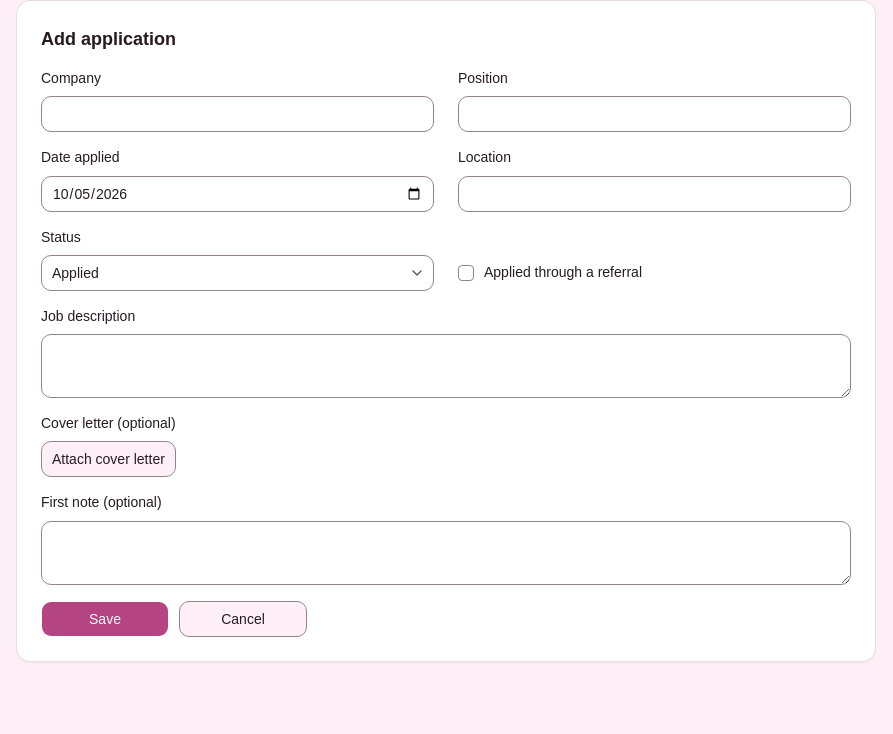
AddApplicationScreen › keeps every value when the save fails, and says so with a reference
This screenshot has width=893, height=734.
In the field labelled "Company": (238, 114) [41,96,434,132], type "Northwind Traders"
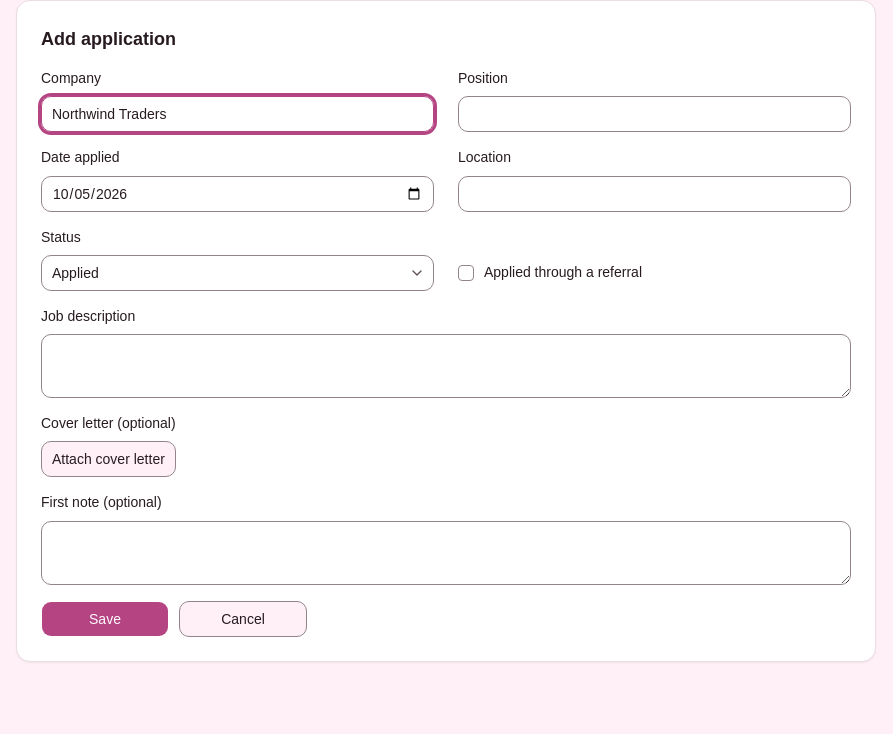
In the field labelled "Position": (654, 114) [458,96,851,132], type "Senior Frontend Engineer"
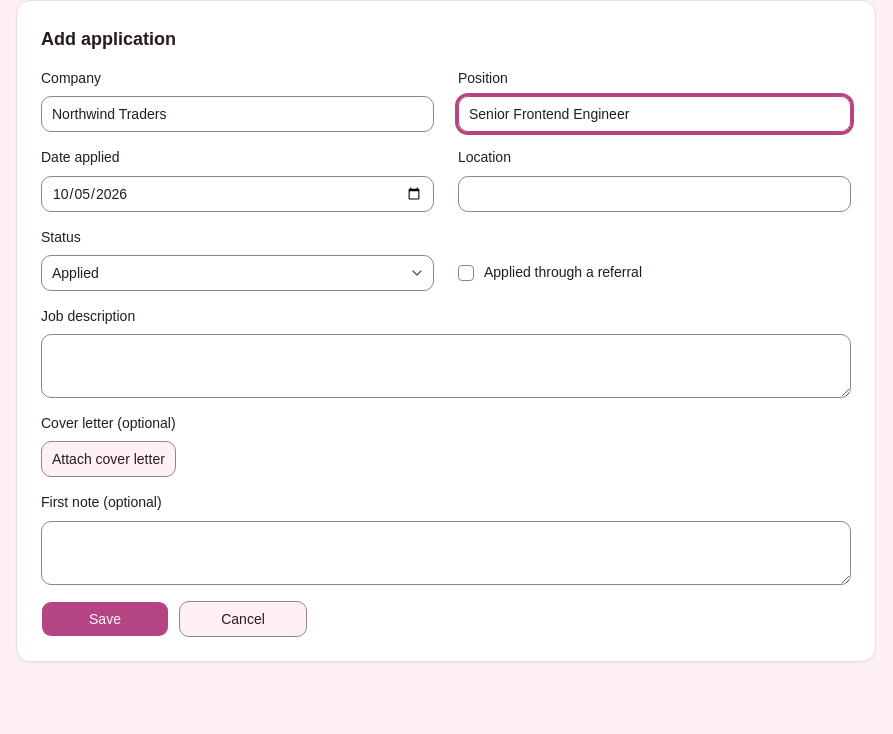
Click the button "Save": (105, 618) [41,600,169,636]
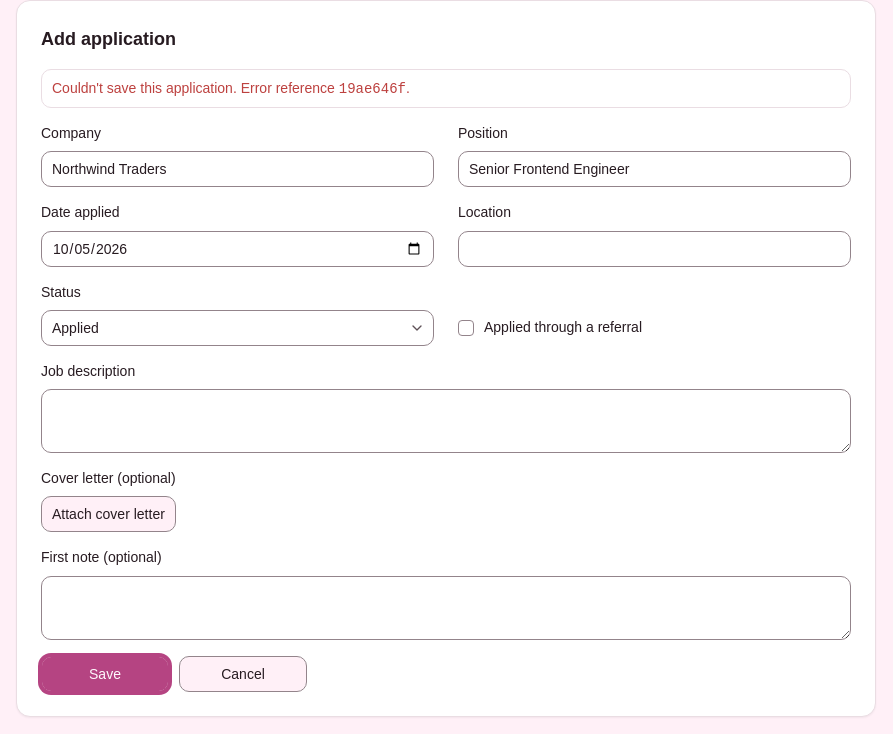
Now the message shows "Couldn't save this application.", box [52,80,237,96]
Now the message reads "Couldn't save this application. Error reference 19ae646f.", box [41,69,851,108]
